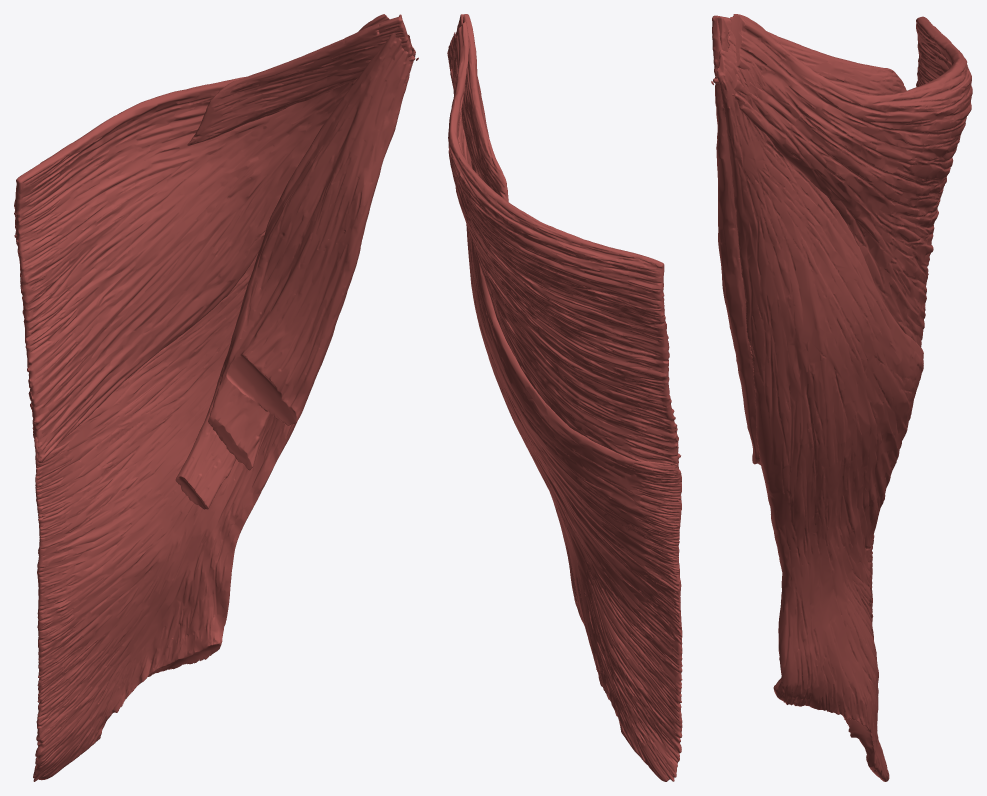
The model's file is FMA13359.glb.
The picture shows the model from 3 angles, left to right: view 1: azimuth 30°, elevation 25°; view 2: azimuth 150°, elevation 25°; view 3: azimuth 270°, elevation 25°; orthographic projection. The views are drawn at different scales.
Visible parts, largest first — view 1: FMA13359; view 2: FMA13359; view 3: FMA13359.
Boxes of the visible parts, box(x1,y1,x2,y2) form: FMA13359: box(14, 14, 418, 781); FMA13359: box(447, 14, 682, 781); FMA13359: box(711, 14, 972, 781).
Size of the model in its own units: 0.1797 by 0.3973 by 0.0997.
